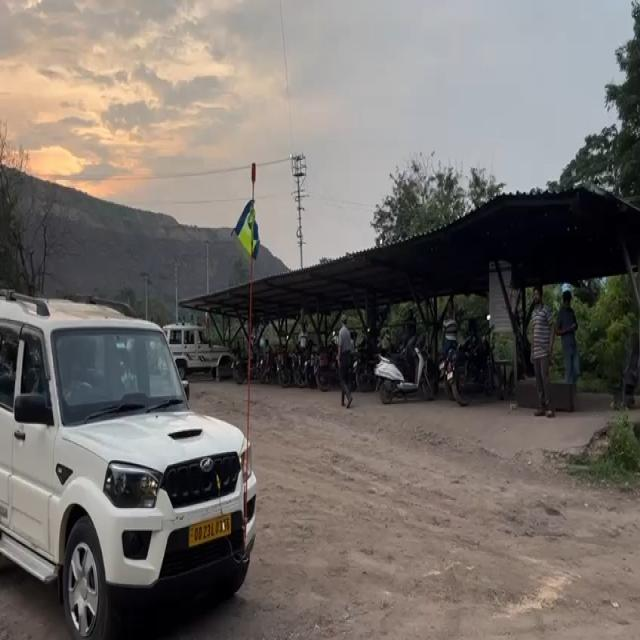light_vehicle: (0, 287, 259, 637), (169, 320, 228, 380)
